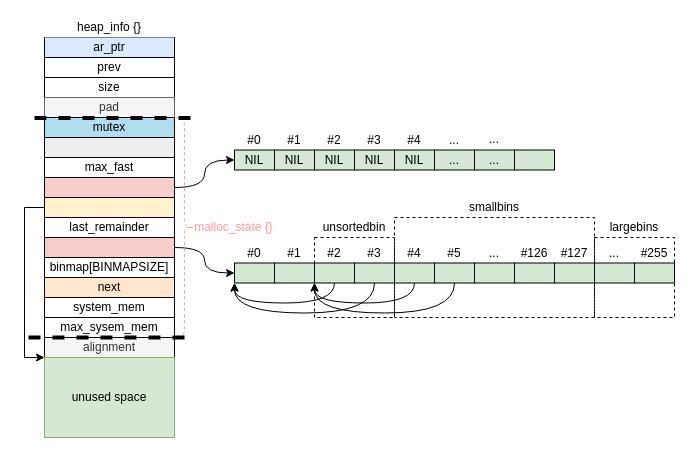
Image size: 692x455. Some labels were removed from this diagram. The shapes that lost their labels are listed below. From the top down, each one's box as (x1, y1, x2, y2) in pixels, then its label:
(44, 176, 174, 198): fastbins[NFASTBINS]
(44, 196, 174, 218): top
(44, 236, 174, 258): bins[NBINS * 2]
